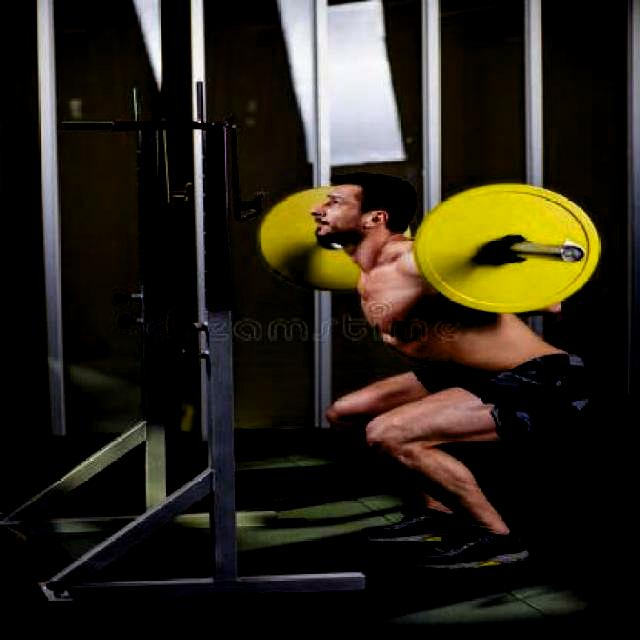barbell: (415, 182, 600, 317)
